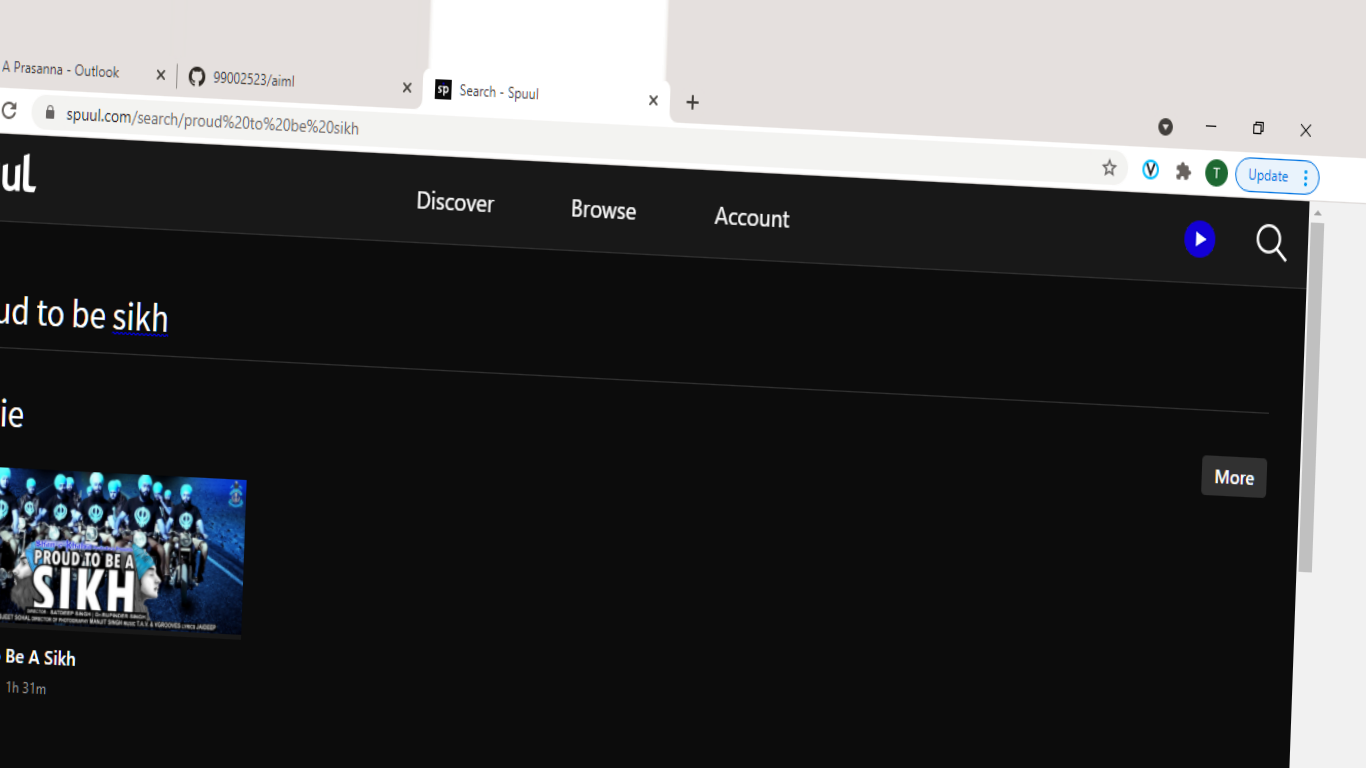myaccountbutton: (693, 189, 807, 245)
resultsfound: (3, 396, 75, 466)
searchicon: (1242, 211, 1296, 271)
searchtextbox: (1, 271, 1264, 423)
